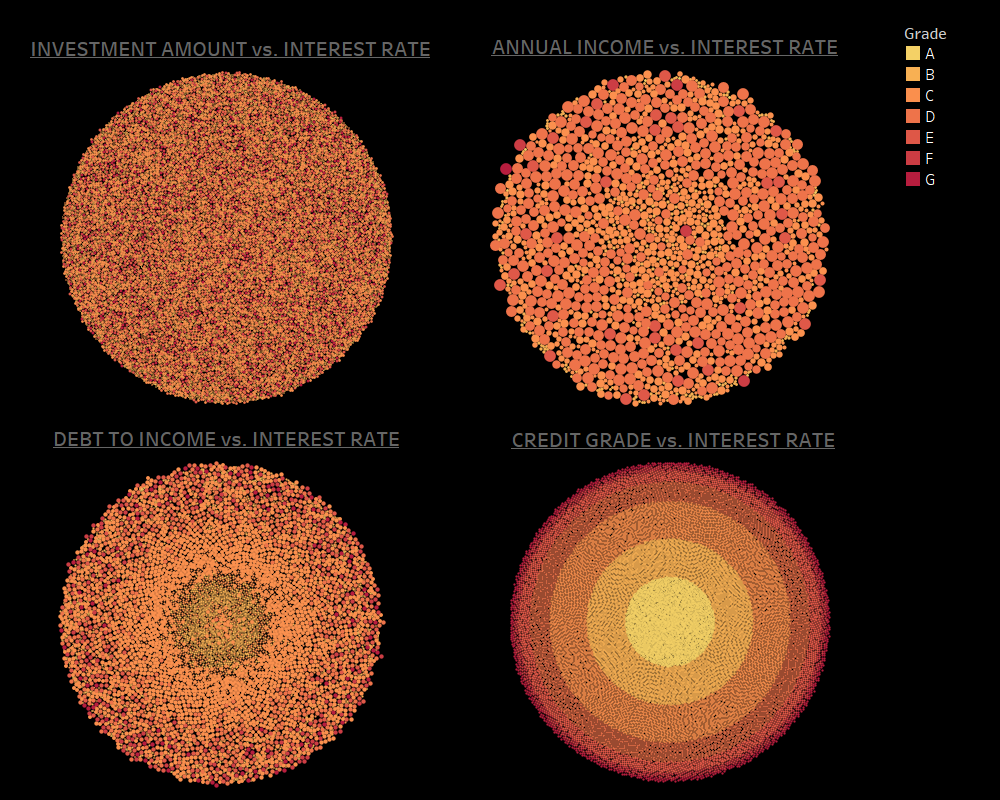

The dashboard page shown, as its layout file describes it:
{"tool":"tableau","page":{"name":"Interest Rate Dashboard","canvas":[1000,800],"ordinal":0},"visuals":[{"type":"blank","box":[8,8,984,784]},{"type":"text","box":[0,14,461,69]},{"type":"legend","title":"Weight of Credit Grade","param":"[federated.0woecls1ylv91o13fmwdu1vamxa3].[none:Grade:nk]","box":[899,17,86,192]},{"type":"text","box":[459,20,412,52]},{"type":"worksheet","title":"Weight of Investment Amount","mark":"Circle","box":[485,64,362,349]},{"type":"worksheet","title":"Weight of Annual Income","mark":"Circle","box":[55,66,353,343]},{"type":"text","box":[504,407,339,64]},{"type":"text","box":[28,413,397,51]},{"type":"worksheet","title":"Weight of Debt to Income","mark":"Circle","box":[53,456,362,337]},{"type":"worksheet","title":"Weight of Credit Grade","mark":"Circle","box":[505,457,355,330]}]}

Visuals, with their boxes in screenshot pixels (x1, y1, x2, y2), scaled from the page's 1000x800 canvas onto the 1000x800 screenshot:
blank: <box>8,8,992,792</box>
text: <box>0,14,461,83</box>
"Weight of Credit Grade" legend: <box>899,17,985,209</box>
text: <box>459,20,871,72</box>
"Weight of Investment Amount" worksheet (Circle marks): <box>485,64,847,413</box>
"Weight of Annual Income" worksheet (Circle marks): <box>55,66,408,409</box>
text: <box>504,407,843,471</box>
text: <box>28,413,425,464</box>
"Weight of Debt to Income" worksheet (Circle marks): <box>53,456,415,793</box>
"Weight of Credit Grade" worksheet (Circle marks): <box>505,457,860,787</box>
